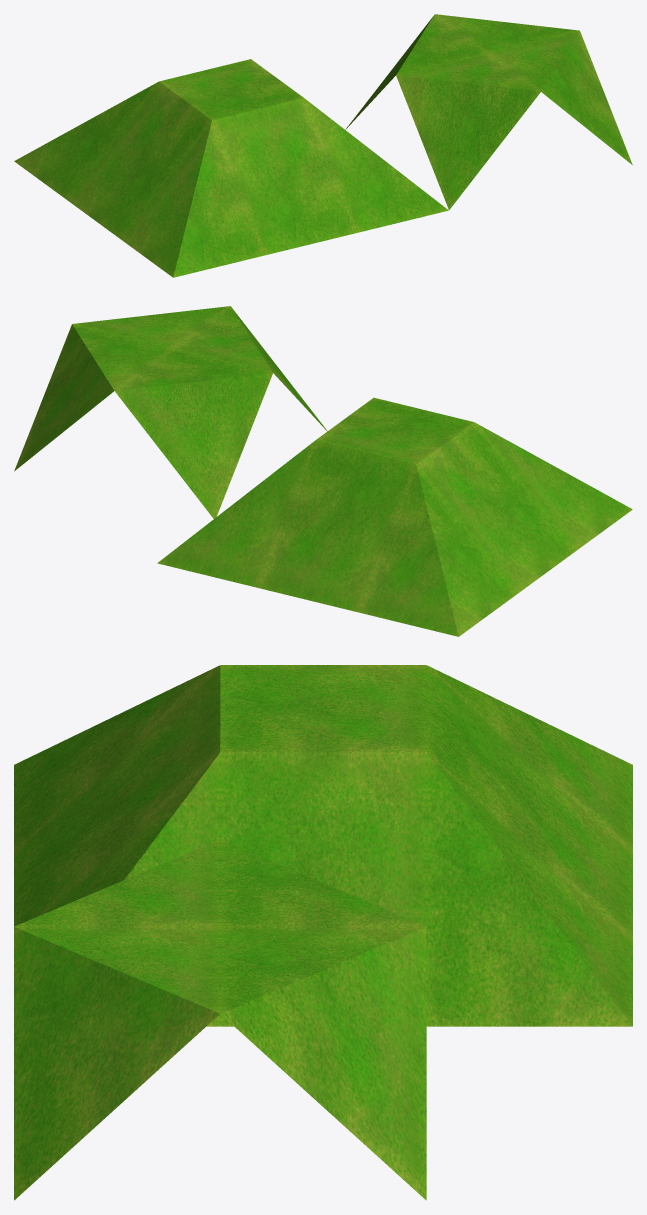
File: worldlib.dae
3 views of the same model, one above another, from view 1: azimuth 30°, elevation 25°; view 2: azimuth 150°, elevation 25°; view 3: azimuth 270°, elevation 25° (orthographic). The views are drawn at different scales.
Parts seen in each view (by area): view 1: Plane_003, Plane_012, Plane_004, Plane_005, Plane_008, Plane_011, Plane_006, Plane_001, Plane_009, Plane_010; view 2: Plane_007, Plane_006, Plane_009, Plane_005, Plane, Plane_010, Plane_004, Plane_001, Plane_012, Plane_011; view 3: Plane, Plane_010, Plane_011, Plane_002, Plane_001, Plane_007, Plane_003, Plane_012, Plane_009, Plane_004, Plane_006, Plane_008.
Boxes of the visible parts, x1,y1,x2,y2 form: Plane_003: (212, 98, 356, 255); Plane_012: (396, 53, 540, 209); Plane_004: (120, 120, 264, 277); Plane_005: (67, 81, 211, 238); Plane_008: (304, 98, 448, 232); Plane_011: (488, 30, 632, 165); Plane_006: (14, 82, 158, 199); Plane_001: (159, 59, 303, 120); Plane_009: (345, 14, 487, 129); Plane_010: (435, 14, 578, 52); Plane_007: (257, 440, 415, 612); Plane_006: (358, 465, 516, 636); Plane_009: (115, 348, 272, 518); Plane_005: (416, 422, 574, 593); Plane: (157, 440, 315, 587); Plane_010: (14, 324, 172, 471); Plane_004: (475, 422, 632, 551); Plane_001: (316, 397, 473, 464); Plane_012: (173, 306, 327, 431); Plane_011: (73, 306, 230, 348); Plane: (426, 752, 632, 1026); Plane_010: (220, 926, 426, 1200); Plane_011: (14, 926, 220, 1200); Plane_002: (220, 752, 426, 1026); Plane_001: (220, 665, 426, 752); Plane_007: (426, 665, 632, 938); Plane_003: (14, 665, 220, 926); Plane_012: (14, 840, 220, 926); Plane_009: (220, 839, 425, 926); Plane_004: (14, 665, 219, 851); Plane_006: (427, 665, 632, 851); Plane_008: (40, 752, 220, 1026).
Size of the model in its own units: 5 by 3 by 1.
13 materials, 13 textured.
